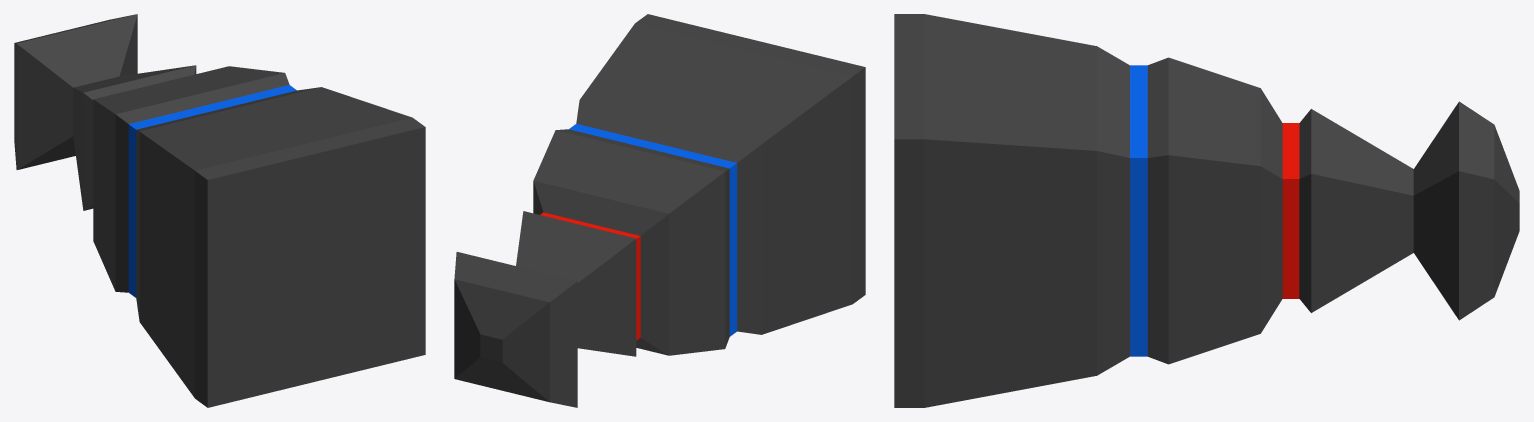
Rendered from pillar.fbx.
3 renders of one model, left to right at view 1: azimuth 30°, elevation 25°; view 2: azimuth 150°, elevation 25°; view 3: azimuth 270°, elevation 25°, orthographic. The views are drawn at different scales.
Visible parts, largest first — view 1: Pilar; view 2: Pilar; view 3: Pilar.
Part boxes in pixels (box(x1,y1,x2,y2)): Pilar: box(14, 14, 425, 407); Pilar: box(454, 14, 865, 407); Pilar: box(894, 14, 1519, 407).
Bounding box in the file's own units: 200 × 200 × 422.
1 material, 1 textured.
